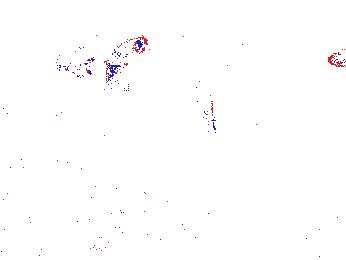glassfish: (184, 70, 219, 139)
redtail glassfish: (102, 35, 149, 82), (54, 50, 95, 76), (327, 46, 346, 69)
